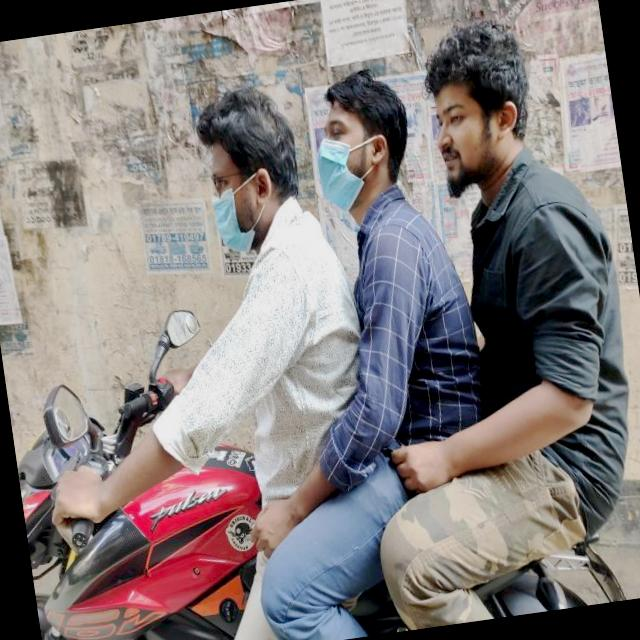motorcycle: (5, 290, 640, 640)
person: (393, 0, 640, 621), (284, 29, 523, 636), (128, 72, 392, 608)
